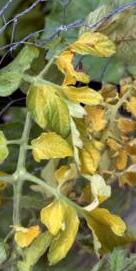Tomato leaf yellow virus: (50, 0, 136, 74), (25, 78, 72, 147), (0, 28, 42, 99), (39, 192, 79, 236)
